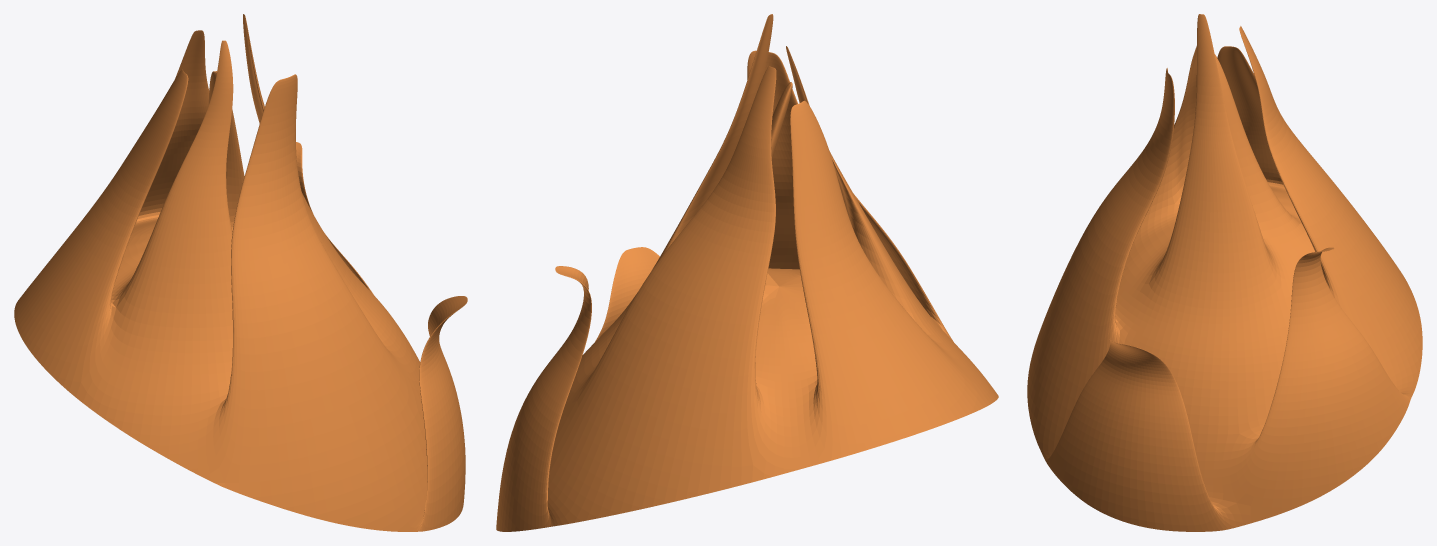
The model's file is dragonfruit_part_3.fbx.
3 renders of one model, left to right at view 1: azimuth 30°, elevation 25°; view 2: azimuth 150°, elevation 25°; view 3: azimuth 270°, elevation 25°, orthographic. The views are drawn at different scales.
Parts seen in each view (by area): view 1: Sphere.003; view 2: Sphere.003; view 3: Sphere.003.
Part boxes in pixels (<box>): Sphere.003: <box>14,14,467,531</box>; Sphere.003: <box>496,14,998,531</box>; Sphere.003: <box>1027,14,1422,531</box>.
Bounding box in the file's own units: 144 × 175 × 144.
